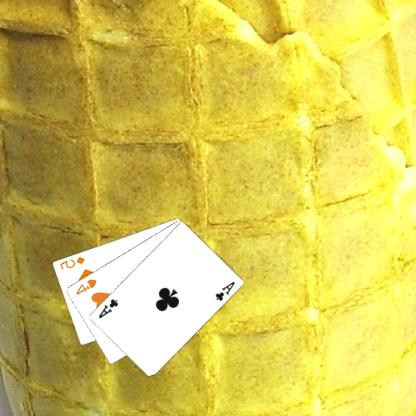4H: (74, 276, 100, 296)
5D: (59, 254, 88, 270)
AC: (97, 296, 121, 320), (214, 278, 238, 302)
